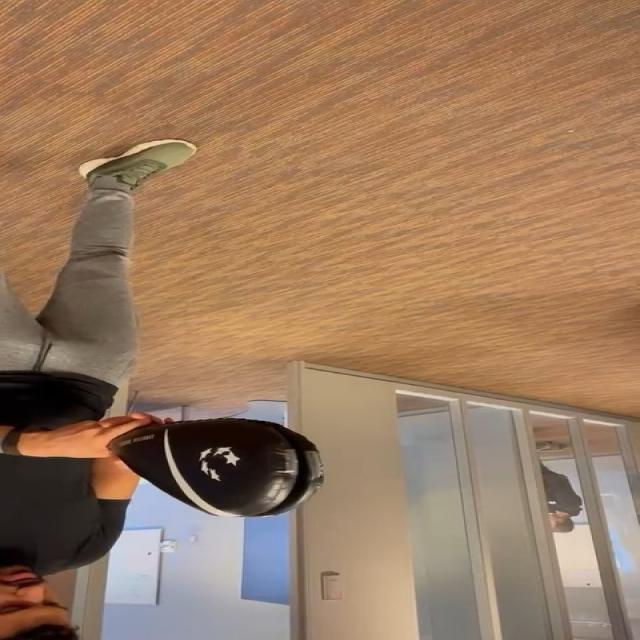paddle: (133, 421, 326, 516)
